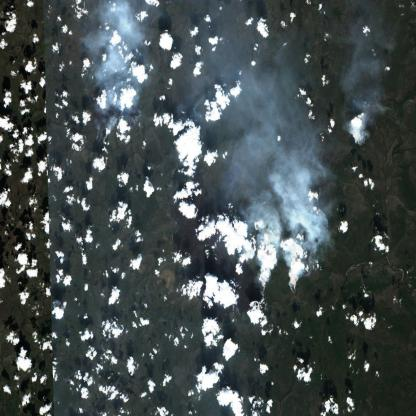fire: (91, 118, 117, 154), (346, 110, 371, 146), (306, 241, 328, 268), (254, 278, 275, 301), (284, 280, 303, 300)
